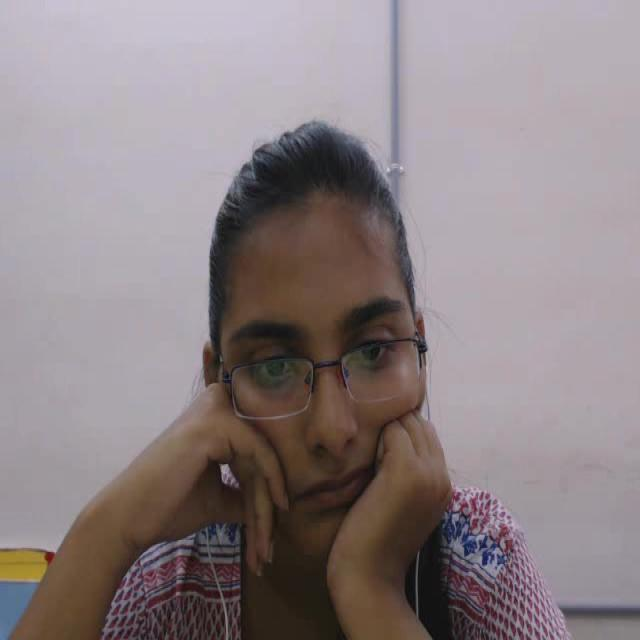Bored: (167, 92, 475, 601)
